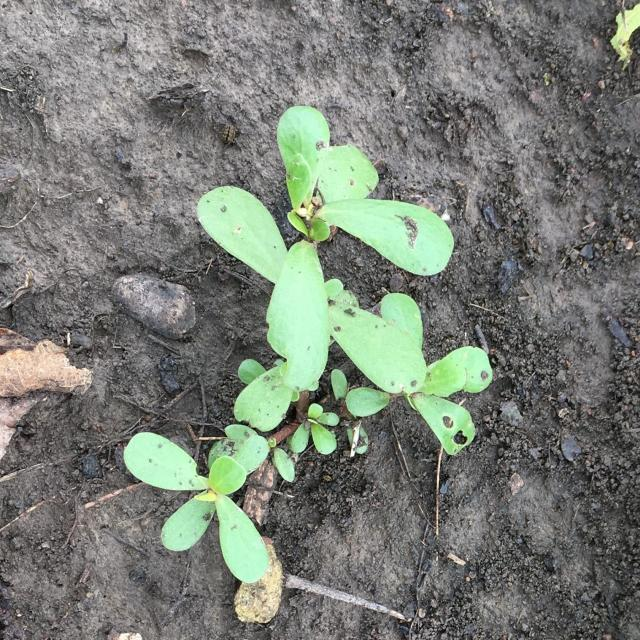Purslane: (124, 106, 494, 584)
